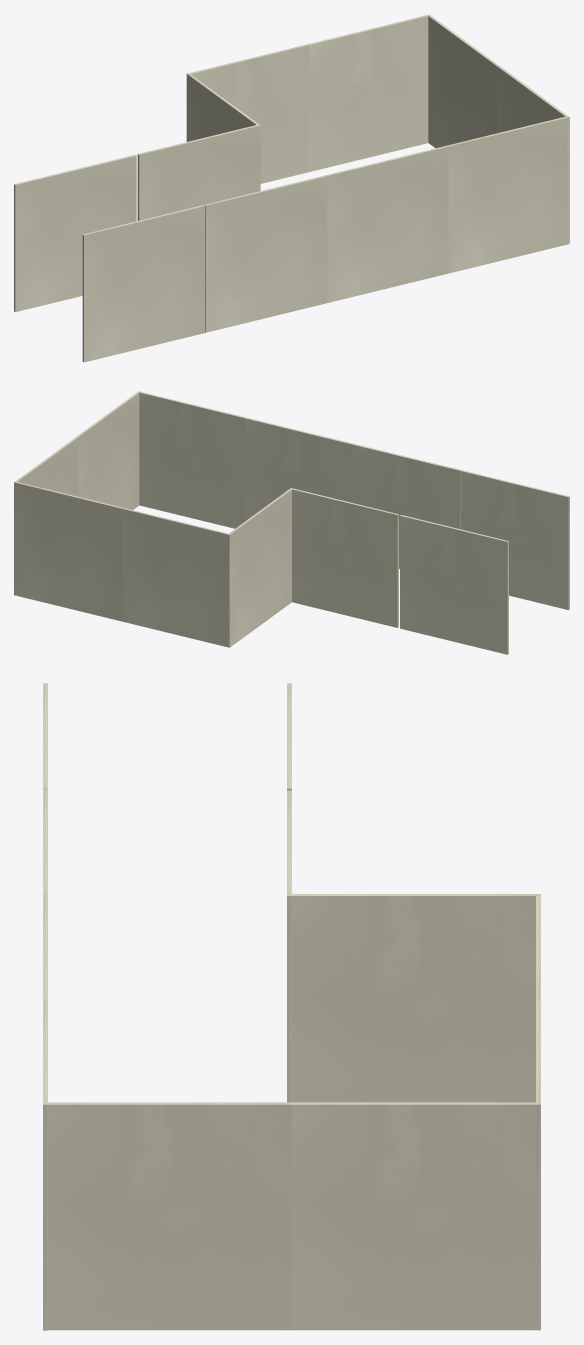
Rendered from murPiece2.fbx.
3 views of the same model, one above another, from view 1: azimuth 30°, elevation 25°; view 2: azimuth 150°, elevation 25°; view 3: azimuth 270°, elevation 25° (orthographic). The views are drawn at different scales.
Parts seen in each view (by area): view 1: mur.035, mur.040, mur.039, mur.038, mur.020, mur.033, mur.036, mur.017, mur.037, mur.018, mur.019; view 2: mur.033, mur.017, mur.036, mur.020, mur.038, mur.035, mur.039, mur.019, mur.040, mur.018, mur.037; view 3: mur.037, mur.018, mur.019, mur.038, mur.017, mur.020.
Boxes of the visible parts, left/top/right/bottom form: mur.035: left=82, top=205, right=205, bottom=362; mur.040: left=204, top=175, right=327, bottom=332; mur.039: left=326, top=145, right=448, bottom=302; mur.038: left=447, top=116, right=569, bottom=273; mur.020: left=308, top=15, right=428, bottom=171; mur.033: left=14, top=154, right=136, bottom=312; mur.036: left=189, top=44, right=309, bottom=183; mur.017: left=137, top=124, right=260, bottom=220; mur.037: left=427, top=14, right=499, bottom=148; mur.018: left=497, top=66, right=569, bottom=244; mur.019: left=186, top=73, right=258, bottom=141; mur.033: left=400, top=515, right=508, bottom=654; mur.017: left=290, top=488, right=398, bottom=627; mur.036: left=122, top=508, right=230, bottom=647; mur.020: left=16, top=482, right=122, bottom=621; mur.038: left=137, top=391, right=245, bottom=528; mur.035: left=461, top=470, right=569, bottom=610; mur.039: left=245, top=417, right=353, bottom=521; mur.019: left=227, top=489, right=291, bottom=647; mur.040: left=352, top=444, right=461, bottom=568; mur.018: left=76, top=391, right=140, bottom=509; mur.037: left=14, top=437, right=78, bottom=595; mur.037: left=292, top=1102, right=540, bottom=1330; mur.018: left=43, top=1102, right=291, bottom=1330; mur.019: left=292, top=894, right=540, bottom=1102; mur.038: left=43, top=999, right=47, bottom=1330; mur.017: left=287, top=790, right=291, bottom=1102; mur.020: left=536, top=999, right=540, bottom=1300.
Size of the model in its own units: 4003 by 1000 by 2000.
Materials: 1 (1 with a texture image).
